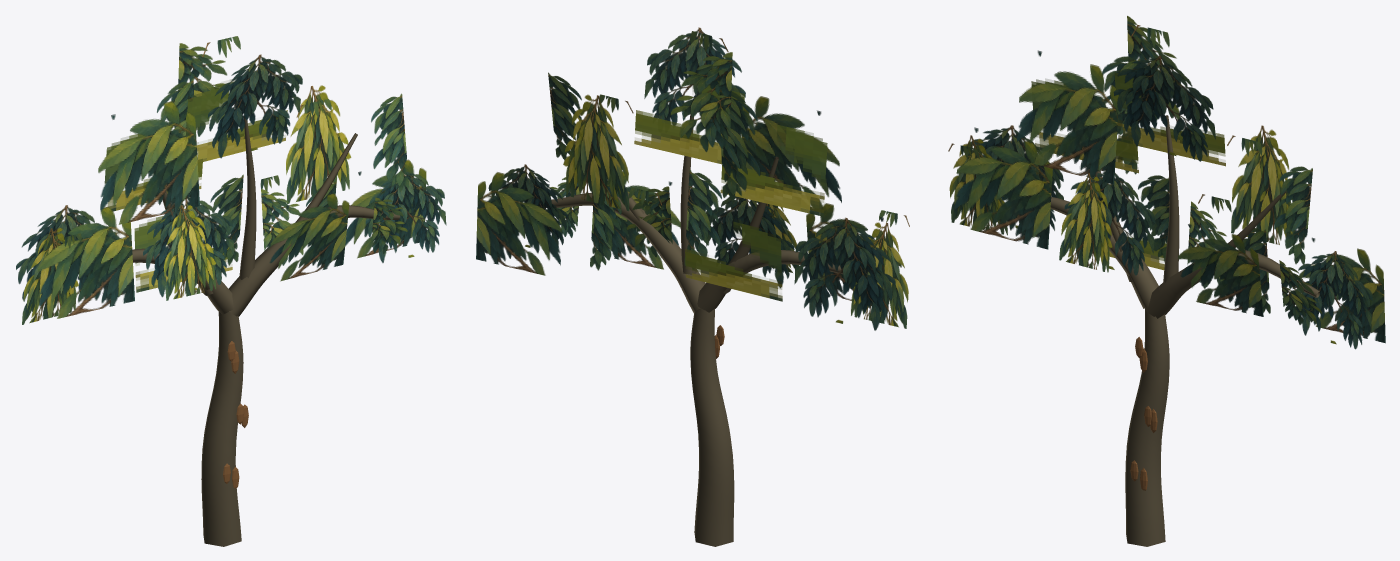
The model's file is TREE_EUCALYPTUS_001_LOD_GAMEPLAY.glb.
3 renders of one model, left to right at view 1: azimuth 30°, elevation 25°; view 2: azimuth 150°, elevation 25°; view 3: azimuth 330°, elevation 25°, orthographic. The views are drawn at different scales.
Visible parts, largest first — view 1: GG_EUC_BODY_ISLAND_01_CLUSTER_00, GG_EUC_V4_MAIN_TRUNK, GG_EUC_BODY_ISLAND_00_CLUSTER_01, GG_EUC_FRONT_ISLAND_02_CLUSTER_00, GG_EUC_REAR_ISLAND_03_CLUSTER_00, GG_EUC_FRONT_ISLAND_06_CLUSTER_00, GG_EUC_FRONT_ISLAND_05_CLUSTER_00, GG_EUC_BODY_ISLAND_04_CLUSTER_01, GG_EUC_BODY_ISLAND_05_CLUSTER_00, GG_EUC_BODY_ISLAND_02_CLUSTER_00, GG_EUC_FRONT_ISLAND_03_CLUSTER_00, GG_EUC_BODY_ISLAND_00_CLUSTER_00 (+13 smaller); view 2: GG_EUC_V4_MAIN_TRUNK, GG_EUC_REAR_ISLAND_00_CLUSTER_00, GG_EUC_REAR_ISLAND_04_CLUSTER_00, GG_EUC_REAR_ISLAND_03_CLUSTER_00, GG_EUC_BODY_ISLAND_01_CLUSTER_00, GG_EUC_BODY_ISLAND_01_CLUSTER_01, GG_EUC_FRONT_ISLAND_02_CLUSTER_00, GG_EUC_REAR_ISLAND_02_CLUSTER_00, GG_EUC_REAR_ISLAND_05_CLUSTER_00, GG_EUC_BODY_ISLAND_05_CLUSTER_00, GG_EUC_BODY_ISLAND_02_CLUSTER_00, GG_EUC_REAR_ISLAND_01_CLUSTER_00 (+14 smaller); view 3: GG_EUC_BODY_ISLAND_01_CLUSTER_00, GG_EUC_V4_MAIN_TRUNK, GG_EUC_BODY_ISLAND_00_CLUSTER_01, GG_EUC_FRONT_ISLAND_02_CLUSTER_00, GG_EUC_FRONT_ISLAND_06_CLUSTER_00, GG_EUC_REAR_ISLAND_03_CLUSTER_00, GG_EUC_BODY_ISLAND_04_CLUSTER_01, GG_EUC_FRONT_ISLAND_05_CLUSTER_00, GG_EUC_BODY_ISLAND_05_CLUSTER_00, GG_EUC_REAR_ISLAND_04_CLUSTER_00, GG_EUC_FRONT_ISLAND_03_CLUSTER_00, GG_EUC_BODY_ISLAND_02_CLUSTER_00 (+12 smaller).
Boxes of the visible parts, x1,y1,x2,y2 form: GG_EUC_BODY_ISLAND_01_CLUSTER_00: [98, 101, 199, 224]; GG_EUC_V4_MAIN_TRUNK: [201, 311, 243, 546]; GG_EUC_BODY_ISLAND_00_CLUSTER_01: [37, 206, 134, 318]; GG_EUC_FRONT_ISLAND_02_CLUSTER_00: [208, 54, 302, 158]; GG_EUC_REAR_ISLAND_03_CLUSTER_00: [286, 85, 351, 203]; GG_EUC_FRONT_ISLAND_06_CLUSTER_00: [269, 193, 349, 281]; GG_EUC_FRONT_ISLAND_05_CLUSTER_00: [163, 205, 216, 300]; GG_EUC_BODY_ISLAND_04_CLUSTER_01: [365, 171, 446, 262]; GG_EUC_BODY_ISLAND_05_CLUSTER_00: [143, 198, 234, 297]; GG_EUC_BODY_ISLAND_02_CLUSTER_00: [185, 79, 287, 162]; GG_EUC_FRONT_ISLAND_03_CLUSTER_00: [371, 93, 408, 191]; GG_EUC_BODY_ISLAND_00_CLUSTER_00: [22, 227, 78, 324]; GG_EUC_V4_MAIN_TRUNK: [690, 308, 734, 546]; GG_EUC_REAR_ISLAND_00_CLUSTER_00: [794, 217, 895, 330]; GG_EUC_REAR_ISLAND_04_CLUSTER_00: [476, 172, 561, 275]; GG_EUC_REAR_ISLAND_03_CLUSTER_00: [563, 94, 629, 211]; GG_EUC_BODY_ISLAND_01_CLUSTER_00: [741, 96, 841, 212]; GG_EUC_BODY_ISLAND_01_CLUSTER_01: [720, 122, 827, 216]; GG_EUC_FRONT_ISLAND_02_CLUSTER_00: [644, 27, 745, 134]; GG_EUC_REAR_ISLAND_02_CLUSTER_00: [670, 52, 732, 151]; GG_EUC_REAR_ISLAND_05_CLUSTER_00: [685, 219, 782, 301]; GG_EUC_BODY_ISLAND_05_CLUSTER_00: [705, 196, 794, 288]; GG_EUC_BODY_ISLAND_02_CLUSTER_00: [634, 72, 744, 168]; GG_EUC_REAR_ISLAND_01_CLUSTER_00: [719, 89, 760, 201]; GG_EUC_BODY_ISLAND_01_CLUSTER_00: [1017, 50, 1119, 184]; GG_EUC_V4_MAIN_TRUNK: [1125, 308, 1169, 546]; GG_EUC_BODY_ISLAND_00_CLUSTER_01: [954, 127, 1052, 249]; GG_EUC_FRONT_ISLAND_02_CLUSTER_00: [1113, 55, 1215, 161]; GG_EUC_FRONT_ISLAND_06_CLUSTER_00: [1178, 224, 1263, 316]; GG_EUC_REAR_ISLAND_03_CLUSTER_00: [1231, 125, 1294, 247]; GG_EUC_BODY_ISLAND_04_CLUSTER_01: [1292, 251, 1372, 349]; GG_EUC_FRONT_ISLAND_05_CLUSTER_00: [1059, 173, 1112, 272]; GG_EUC_BODY_ISLAND_05_CLUSTER_00: [1064, 172, 1155, 275]; GG_EUC_REAR_ISLAND_04_CLUSTER_00: [1299, 237, 1385, 343]; GG_EUC_FRONT_ISLAND_03_CLUSTER_00: [1273, 166, 1312, 264]; GG_EUC_BODY_ISLAND_02_CLUSTER_00: [1114, 70, 1225, 166].
Bounding box in the file's own units: 6.18 × 7.03 × 0.8485.
Materials: 3 (1 with a texture image).
